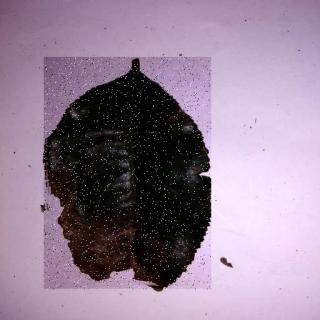Anthracnose: (45, 59, 213, 291)
